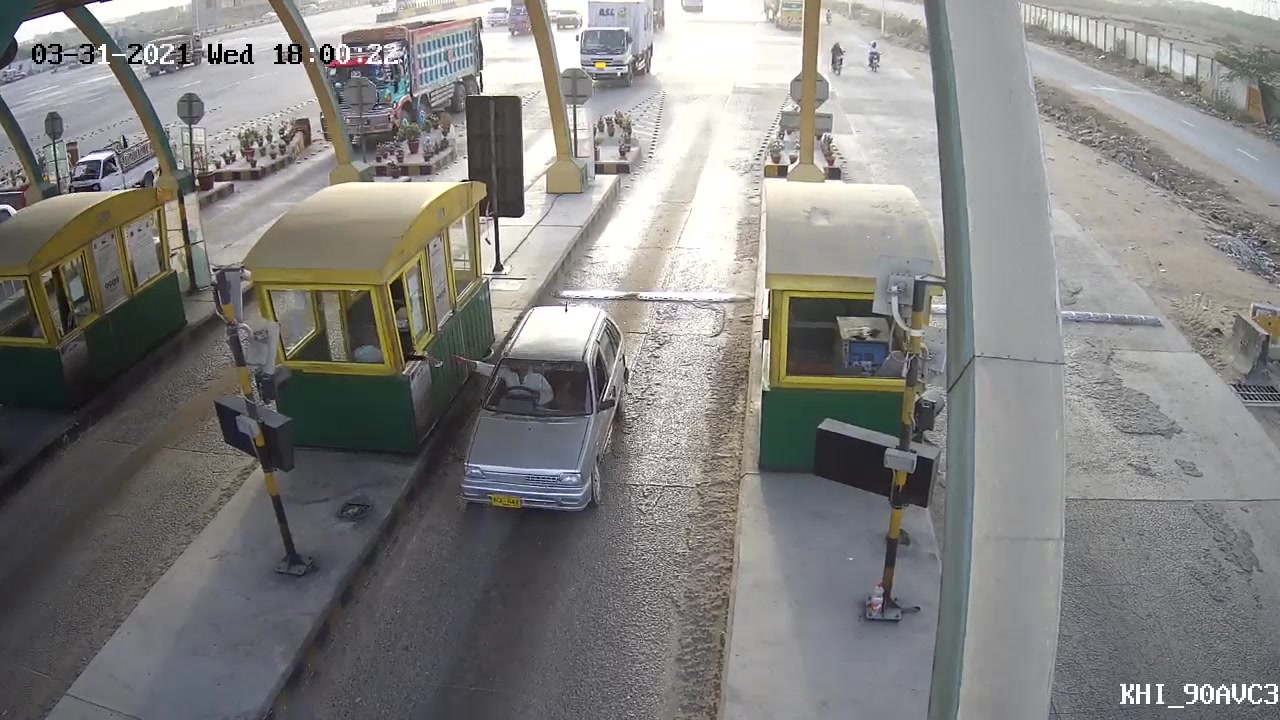F1: (451, 300, 637, 517)
